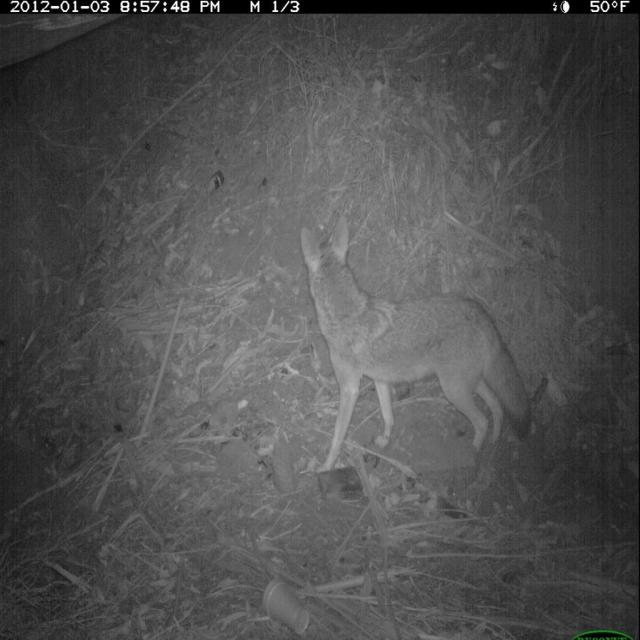coyote: (294, 205, 541, 488)
